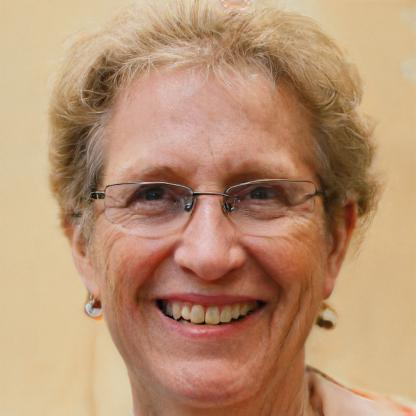glasses: (91, 174, 329, 230)
